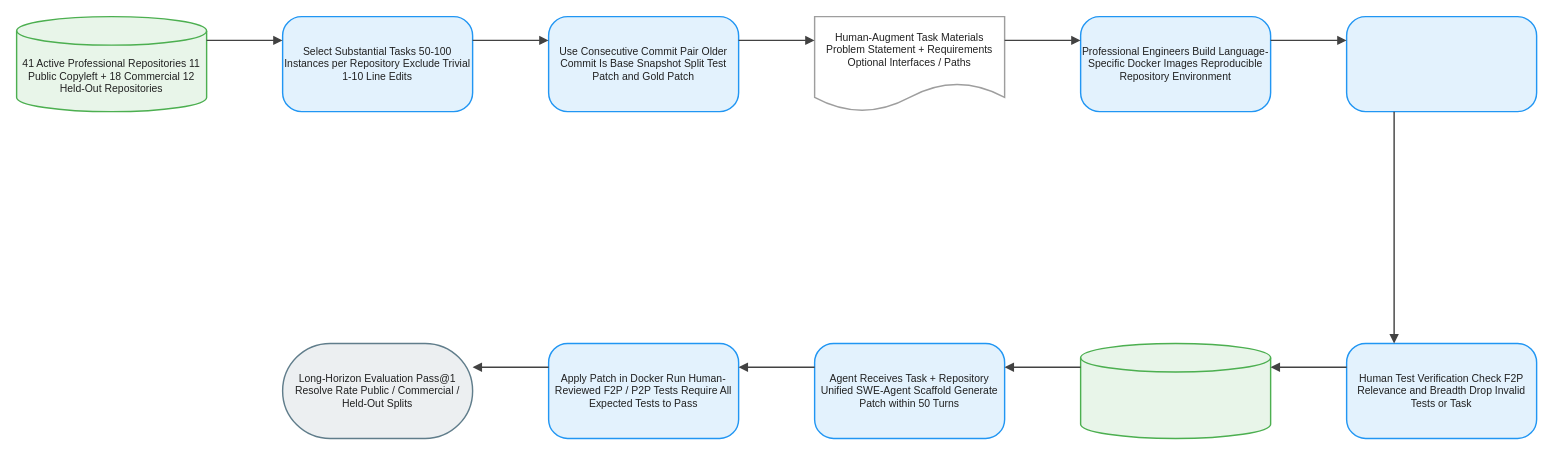
This 1554x456 diagram has some shape labels left out. Here are the shapes that lost their labels. From the top down, the centre of each, then its label:
At point (1441, 63): "Automated Gold-Test Validation Repeat Executions Remove Failed or Flaky Tests".
At point (1175, 390): "SWE-Bench Pro: 1,865 Problems Public 731 + Commercial 276 Held-Out 858".
